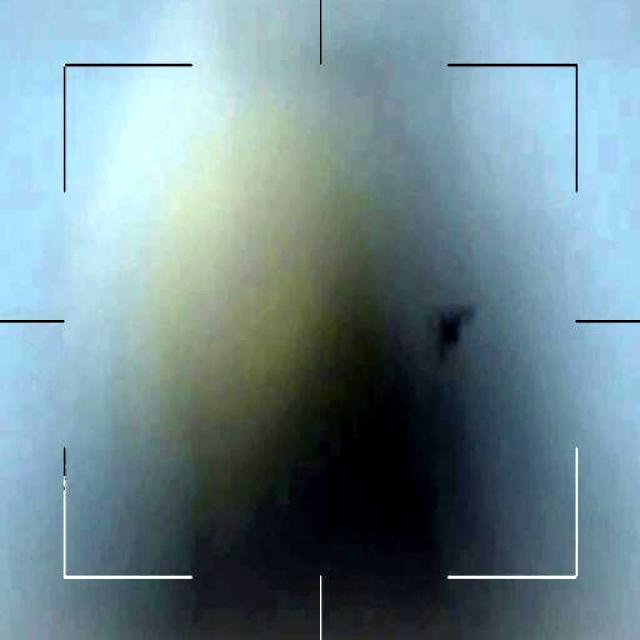bird: (412, 299, 485, 366)
